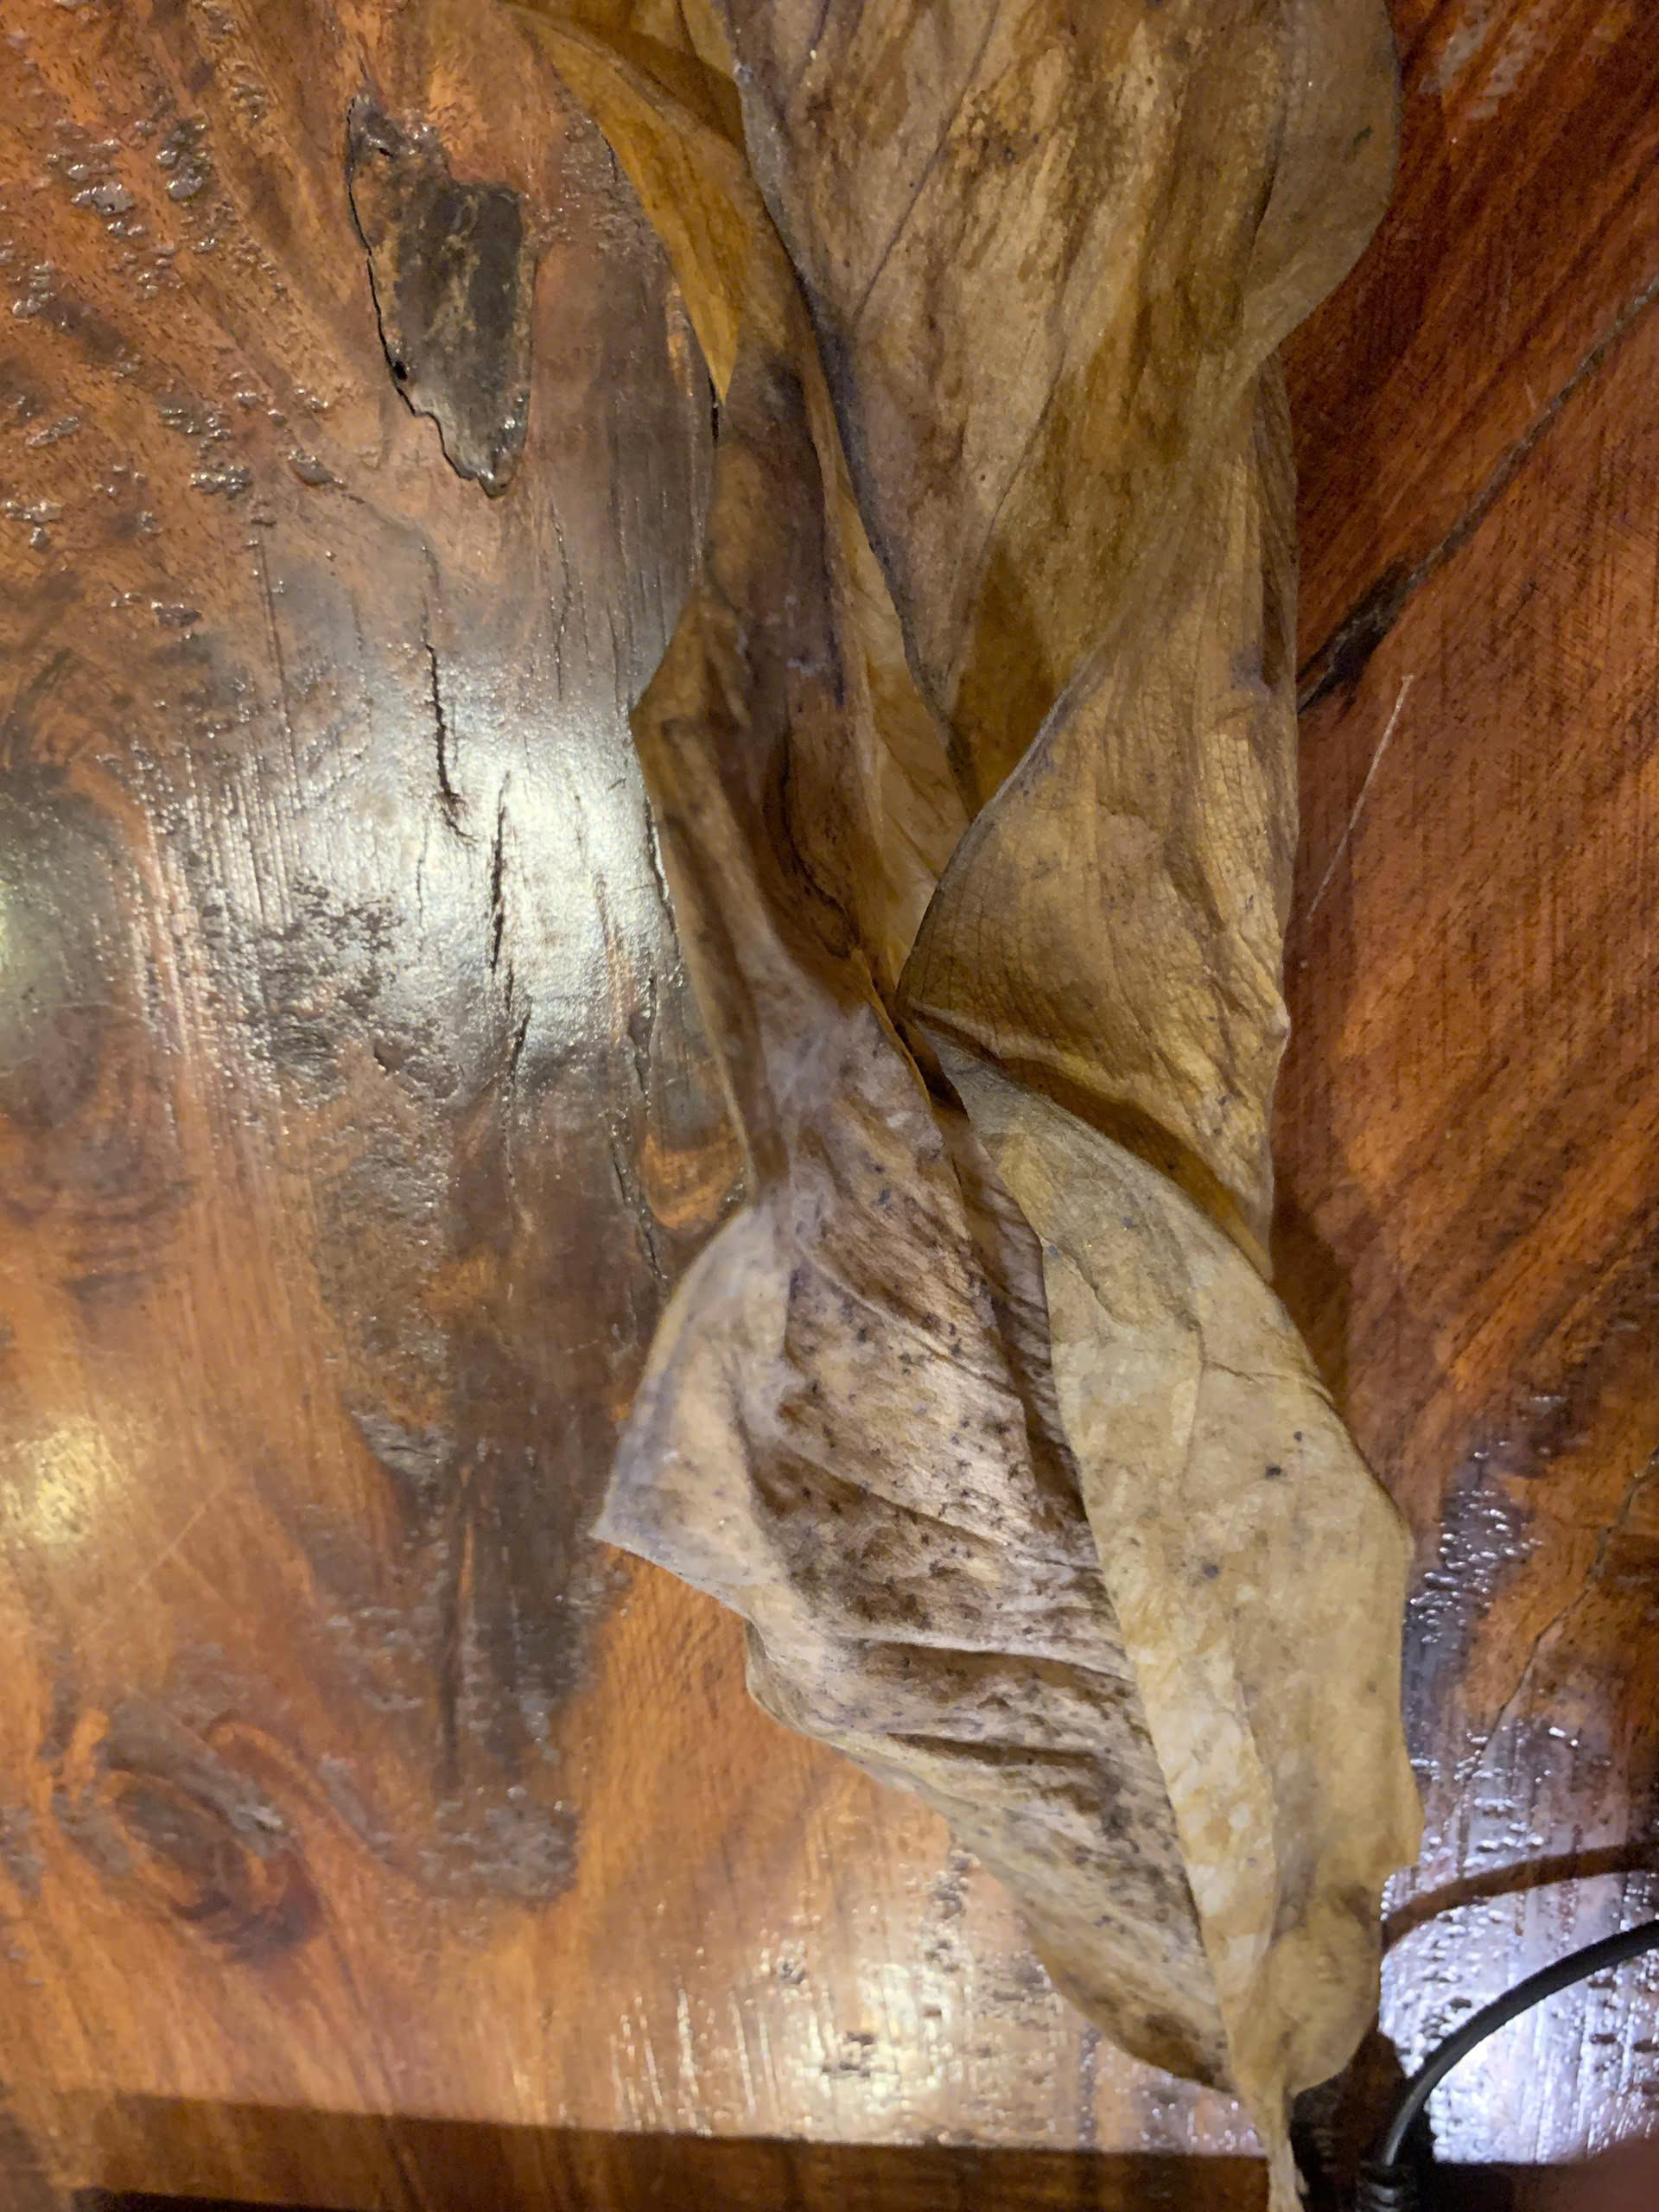Huu co: (605, 26, 1417, 2120)
